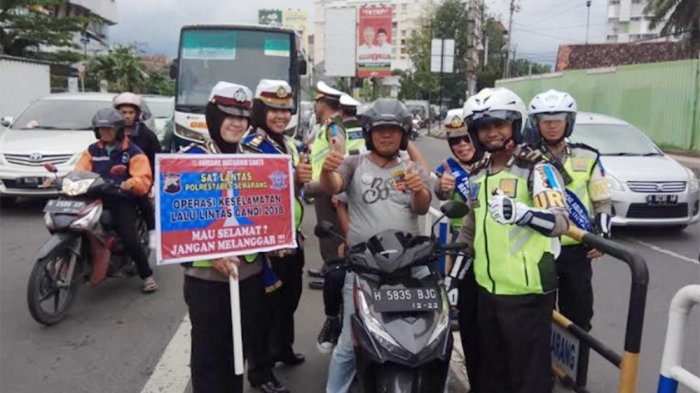plate: (376, 286, 438, 310)
